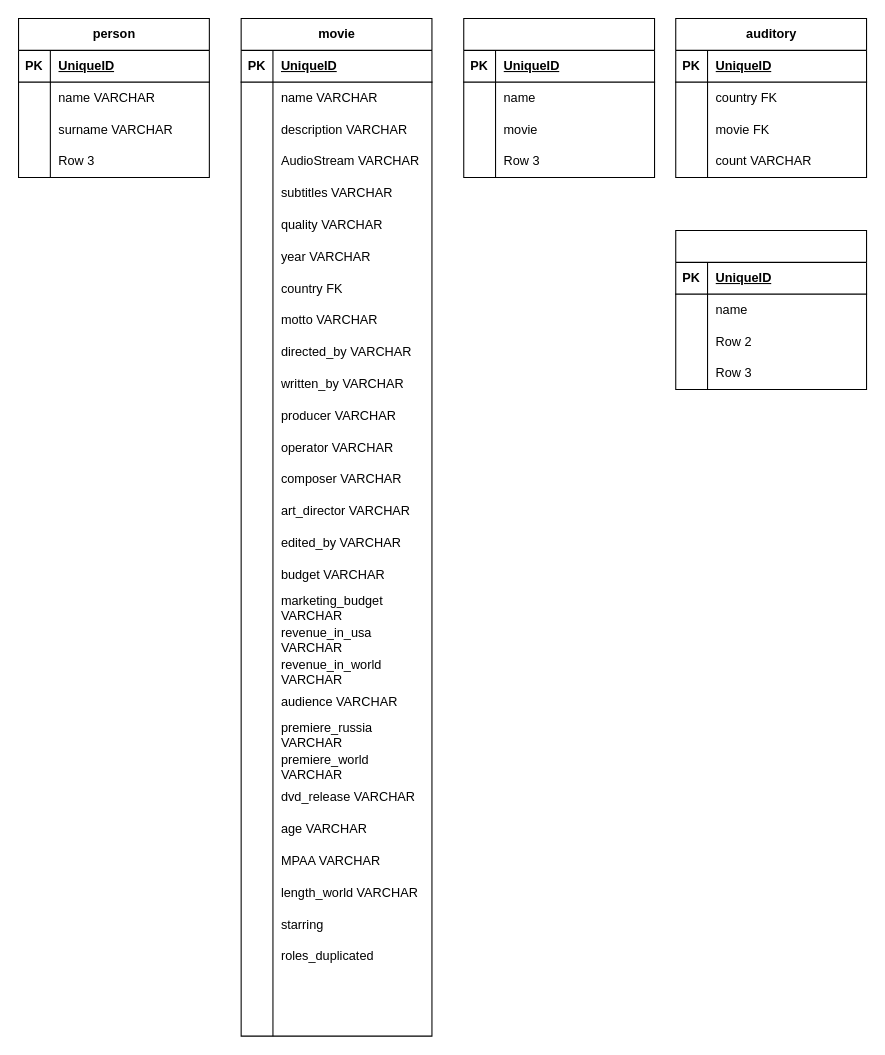
This 885x1055 diagram has some shape labels left out. Here are the shapes that lost their labels. From the top down, the box of each, then its label:
(463, 17, 655, 178): genre
(675, 229, 867, 390): countries
